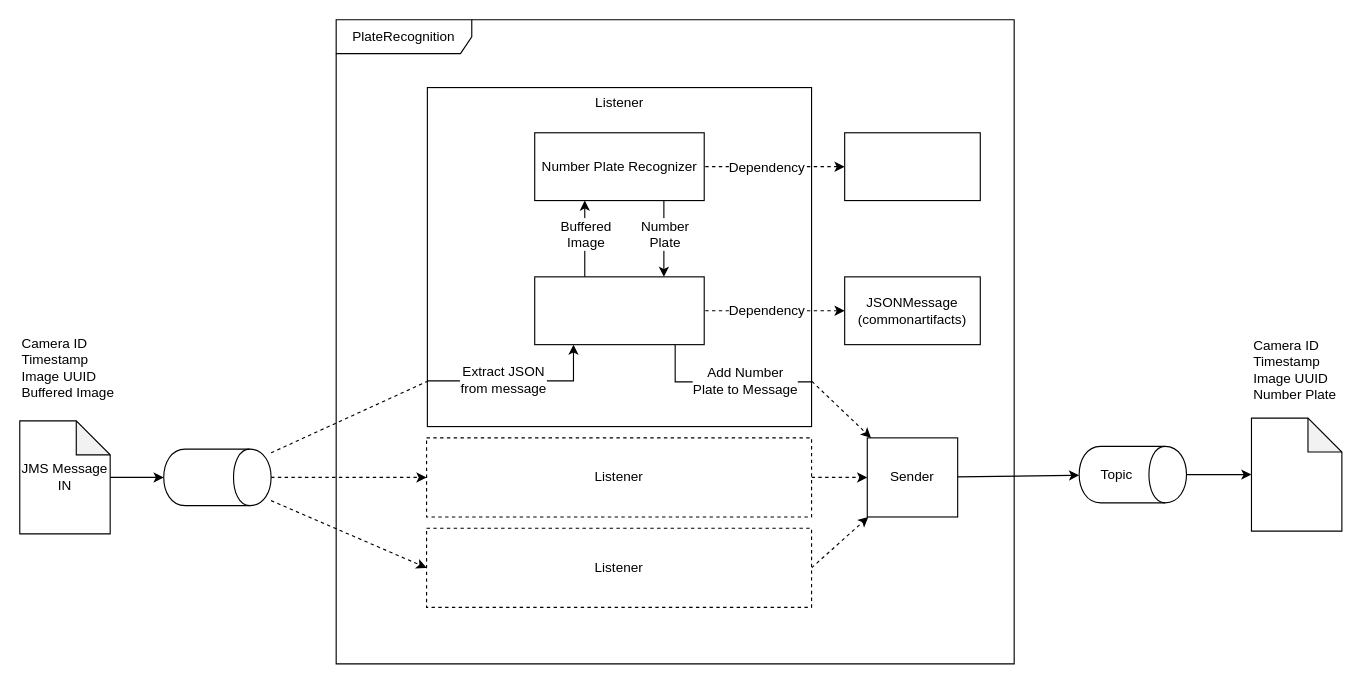
Some shapes in this 1362 by 684 pixel diagram are drawn without their labels. The shapes that lost their labels are listed below. From the top down, each one's box as (x1, y1, x2, y2) in pixels, then its label:
(844, 132, 980, 201): JavaANPR Library
(534, 276, 704, 345): JSON Serialiser
(163, 448, 271, 506): Queue
(1250, 417, 1342, 531): JMS Message OUT
